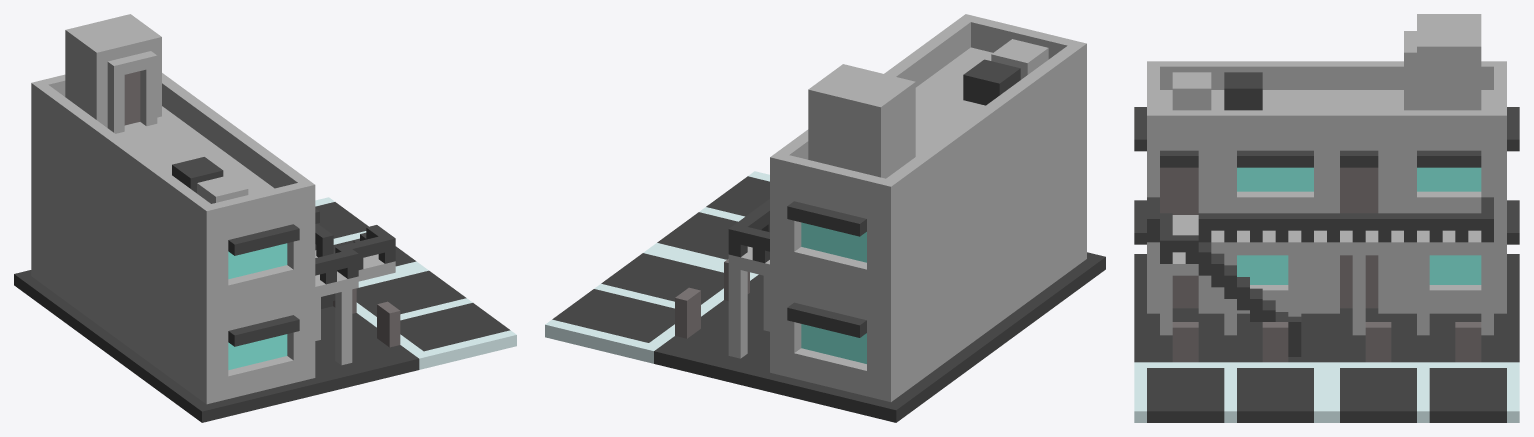
The model's file is apartments2.obj.
3 views of the same model, side by side, from view 1: azimuth 30°, elevation 25°; view 2: azimuth 150°, elevation 25°; view 3: azimuth 270°, elevation 25° (orthographic). The views are drawn at different scales.
Size of the model in its own units: 29 by 23 by 30.
Materials: 1 (1 with a texture image).
